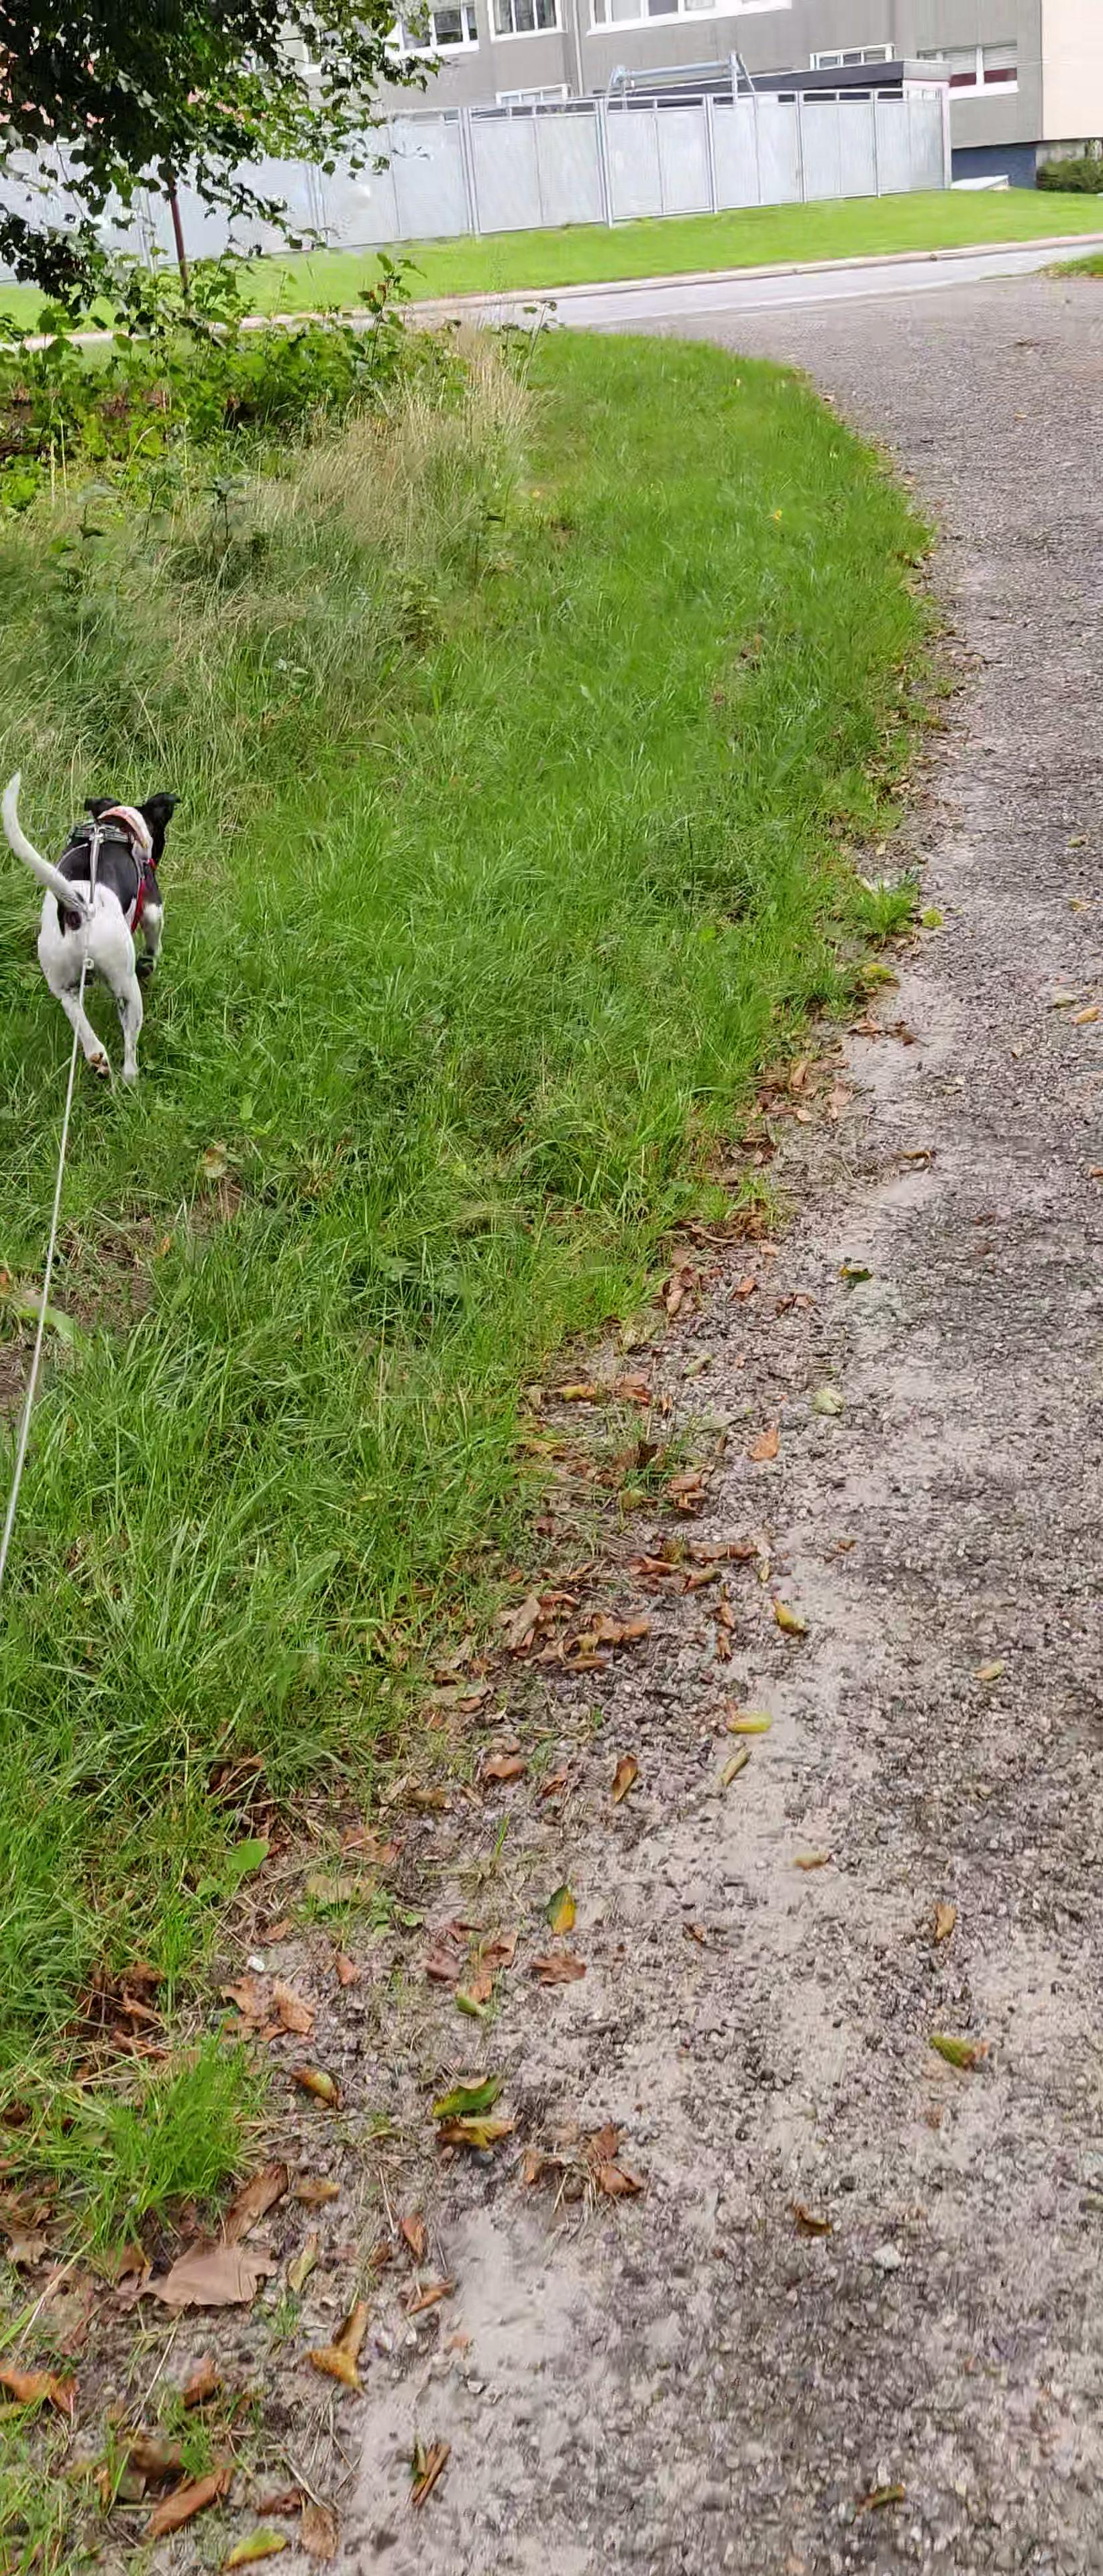Dog: (0, 761, 187, 1099)
